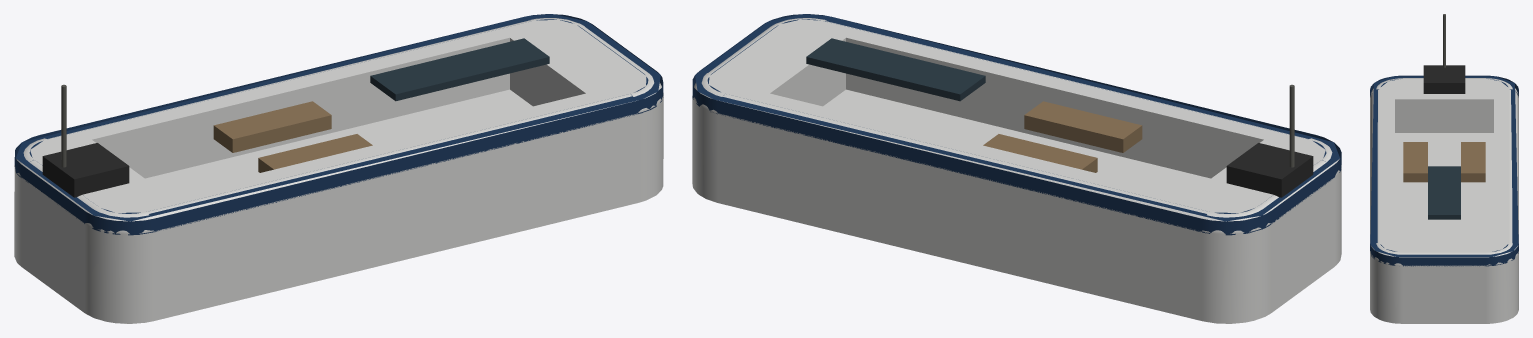
File: a08-umpire-launch.lod1.glb
3 renders of one model, left to right at view 1: azimuth 30°, elevation 25°; view 2: azimuth 150°, elevation 25°; view 3: azimuth 270°, elevation 25°, orthographic. The views are drawn at different scales.
Visible parts, largest first — view 1: part0, part1, part4, part3, part5, part2, part6; view 2: part0, part1, part4, part2, part5, part3, part6; view 3: part0, part1, part4, part5, part2, part3, part6.
Boxes of the visible parts, x1=… form: part0: x1=14, y1=18, x2=663, y2=323; part1: x1=14, y1=14, x2=663, y2=235; part4: x1=370, y1=38, x2=549, y2=101; part3: x1=213, y1=101, x2=331, y2=152; part5: x1=42, y1=143, x2=129, y2=197; part2: x1=258, y1=134, x2=372, y2=172; part6: x1=61, y1=84, x2=66, y2=167; part0: x1=692, y1=18, x2=1341, y2=323; part1: x1=692, y1=14, x2=1341, y2=235; part4: x1=806, y1=38, x2=985, y2=101; part2: x1=1024, y1=101, x2=1142, y2=152; part5: x1=1226, y1=143, x2=1313, y2=197; part3: x1=983, y1=134, x2=1097, y2=172; part6: x1=1289, y1=84, x2=1294, y2=167; part0: x1=1370, y1=78, x2=1518, y2=323; part1: x1=1370, y1=75, x2=1518, y2=266; part4: x1=1428, y1=166, x2=1460, y2=219; part5: x1=1423, y1=65, x2=1465, y2=93; part2: x1=1403, y1=142, x2=1427, y2=182; part3: x1=1461, y1=142, x2=1485, y2=182; part6: x1=1443, y1=14, x2=1445, y2=67.
Bounding box in the file's own units: 5200 × 1750 × 1800.
